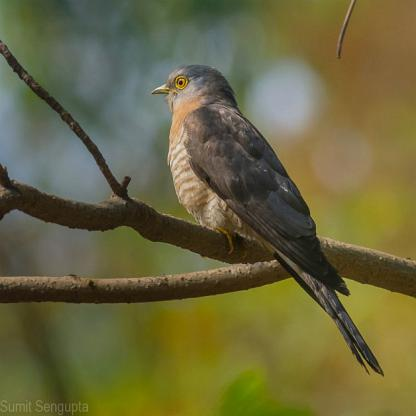Burung: (150, 64, 385, 376)
